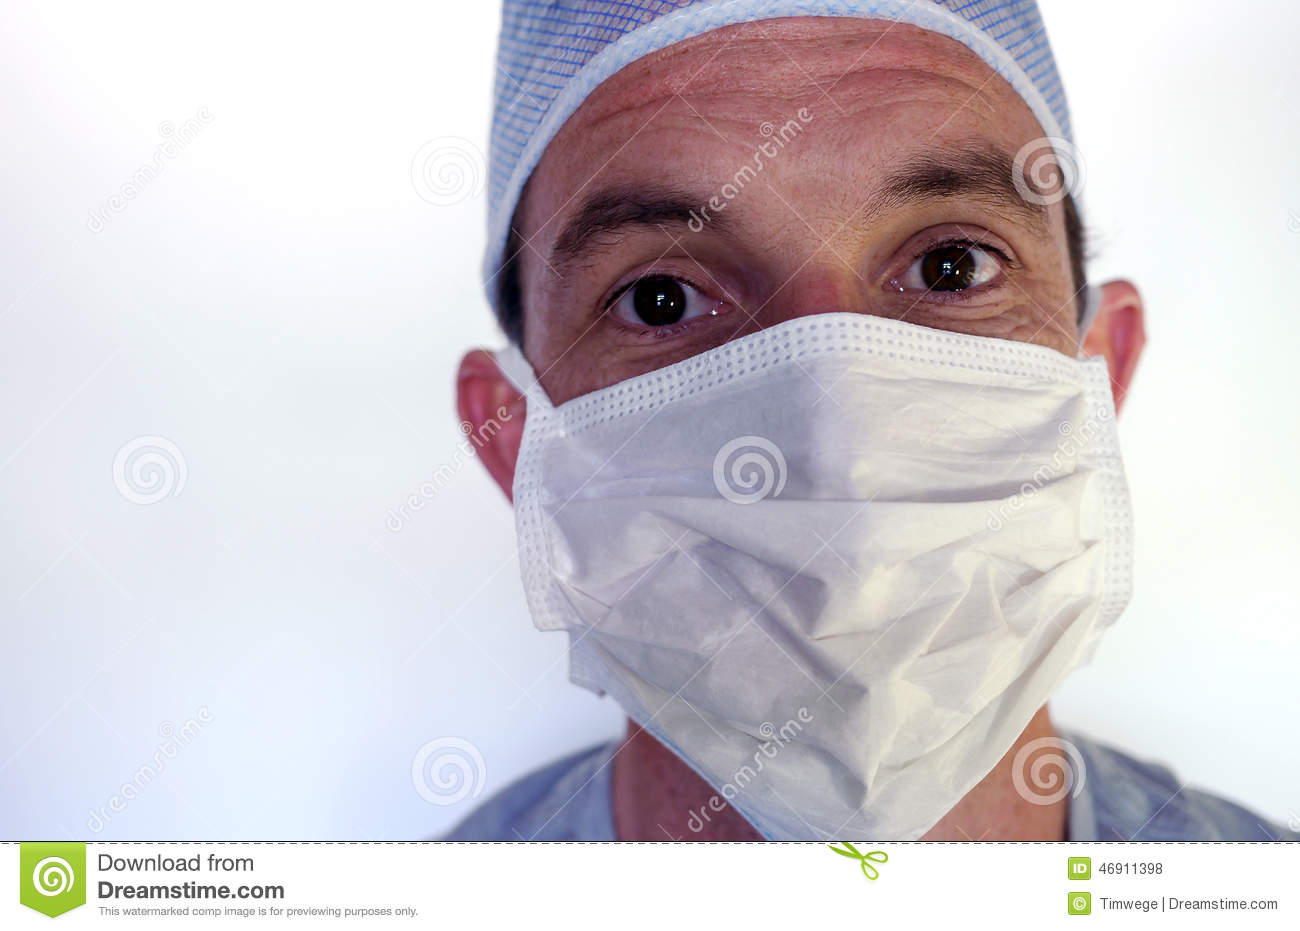mask: (487, 329, 1167, 843)
